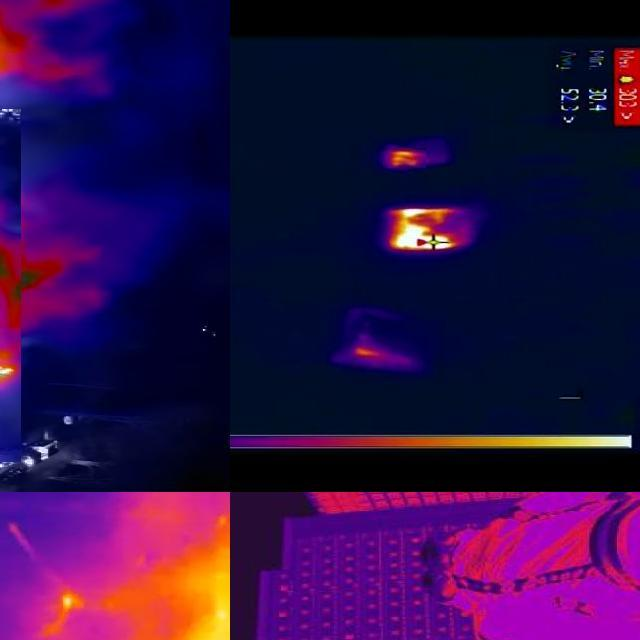fire: (49, 493, 231, 640), (388, 205, 464, 254), (383, 148, 427, 168)
